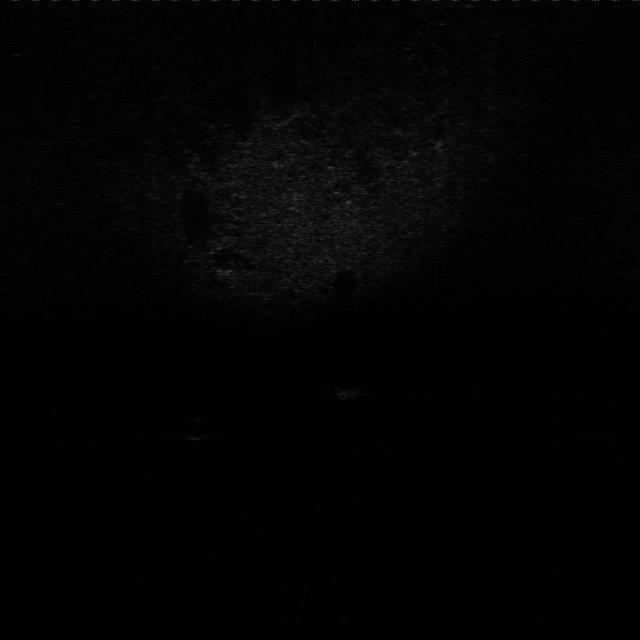ball: (178, 415, 213, 440)
cube: (327, 381, 364, 404)
